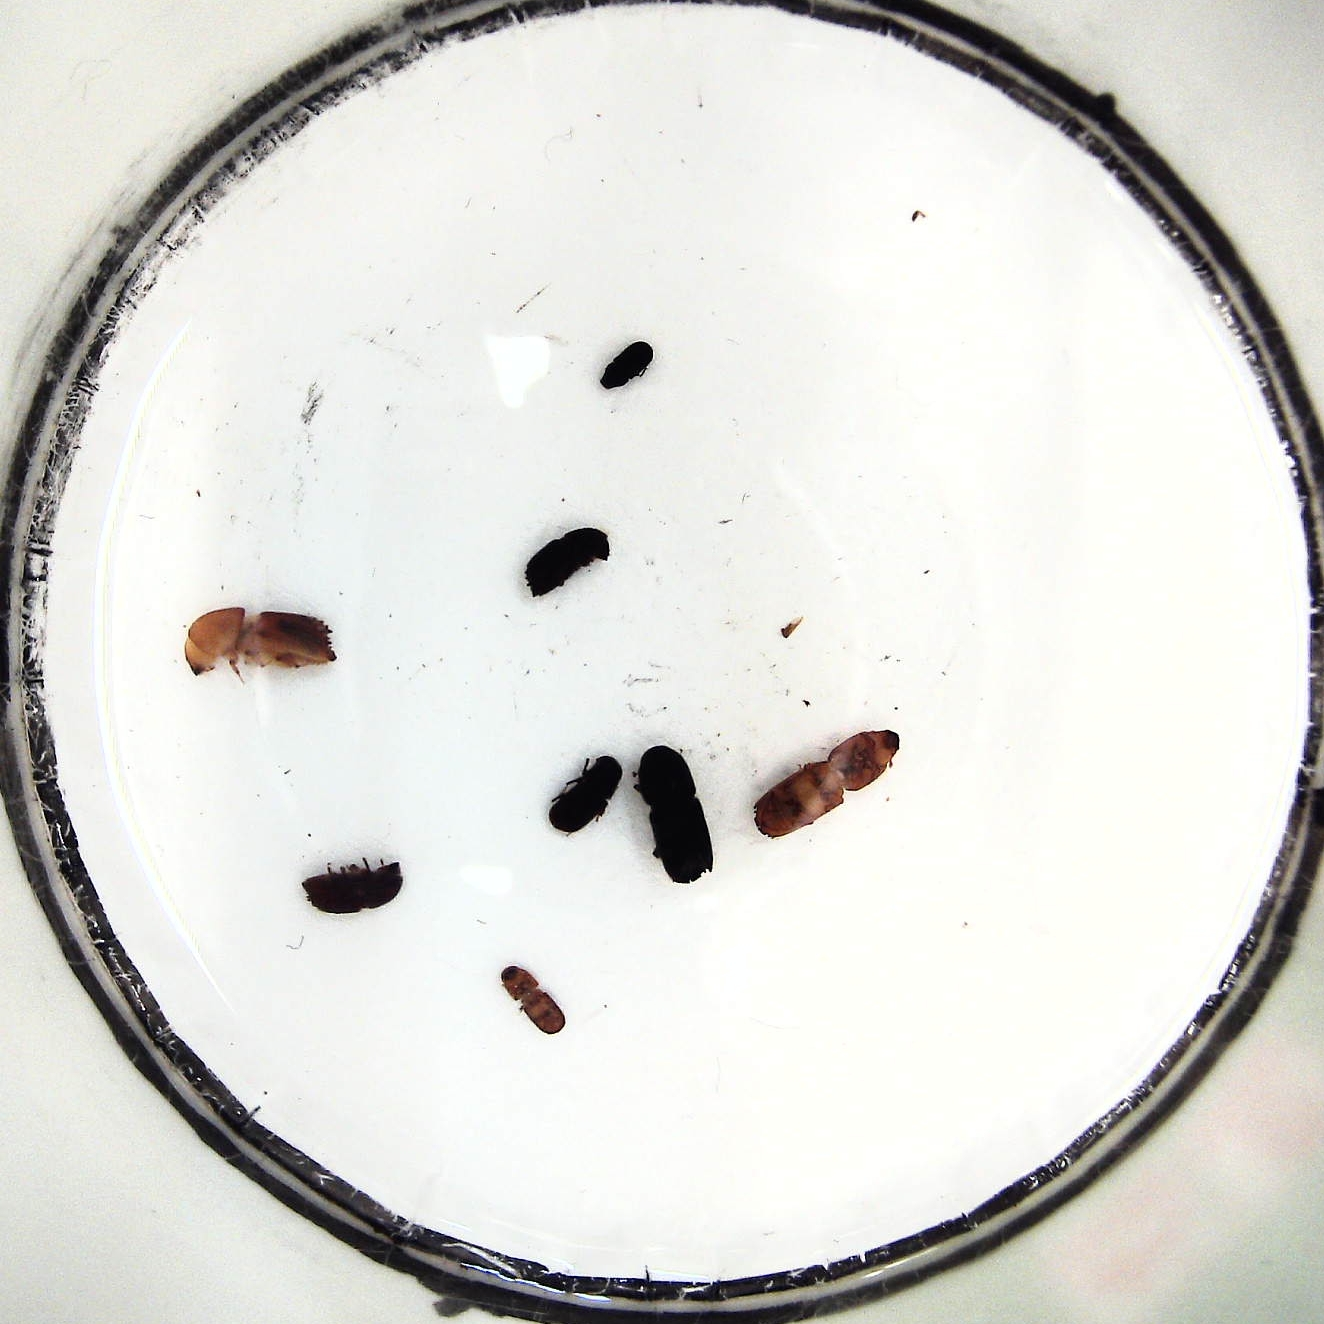Boerner: (749, 726, 898, 840), (179, 604, 339, 684), (633, 746, 720, 885)
Linnaeus: (299, 856, 407, 918), (523, 527, 610, 597)
acuminatus: (493, 964, 571, 1038)
armandi: (546, 753, 623, 837)
coleoptera: (595, 339, 654, 388)
